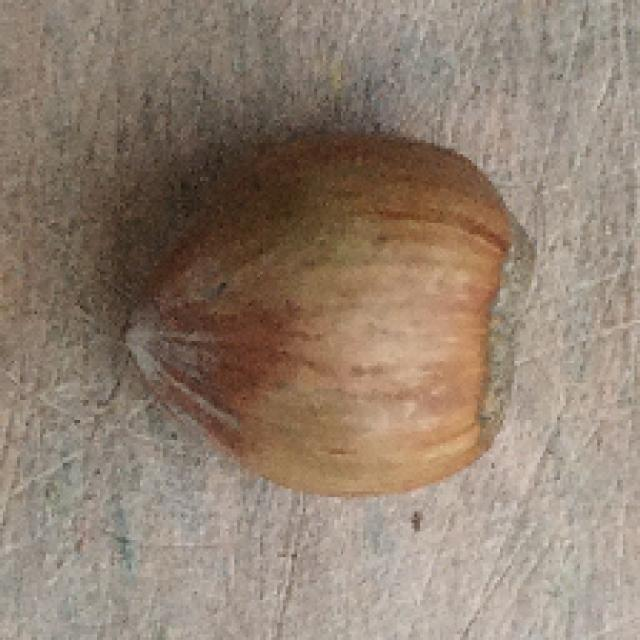damagedHazelnut: (127, 128, 540, 500)
